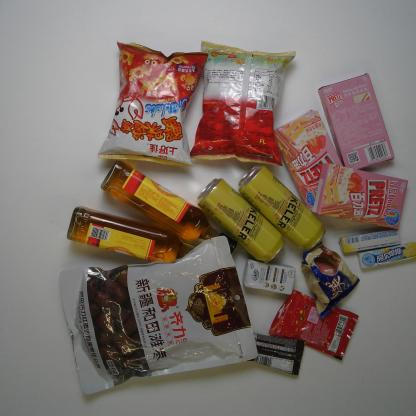Alcohol: (197, 177, 287, 264), (237, 164, 327, 250)
Candy: (268, 289, 361, 362), (354, 242, 416, 270), (338, 229, 402, 254)
Chocolate: (243, 332, 306, 378)
Dessert: (318, 72, 395, 172), (272, 109, 344, 212), (312, 162, 409, 229), (300, 241, 361, 318)
Dried Food: (57, 236, 261, 396)
Milk: (244, 261, 298, 297)
Puffed Food: (190, 38, 298, 168), (98, 41, 208, 167)
Seasoner: (100, 161, 238, 254), (66, 206, 189, 262)
